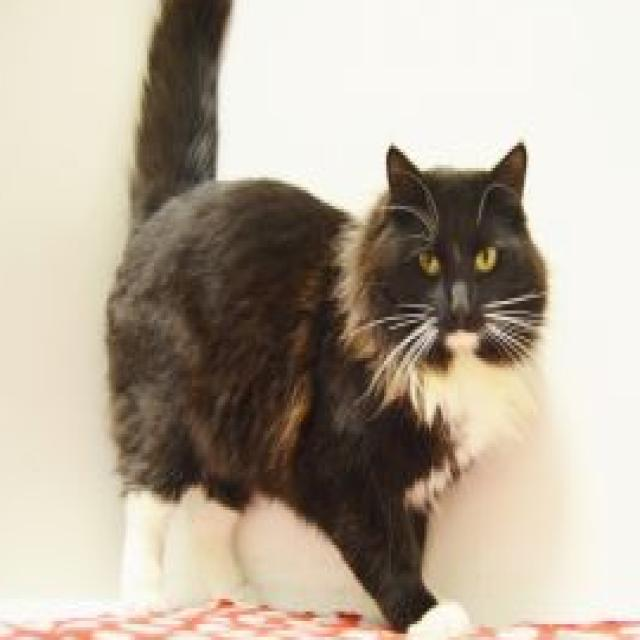Maine Coon: (95, 0, 552, 640)
